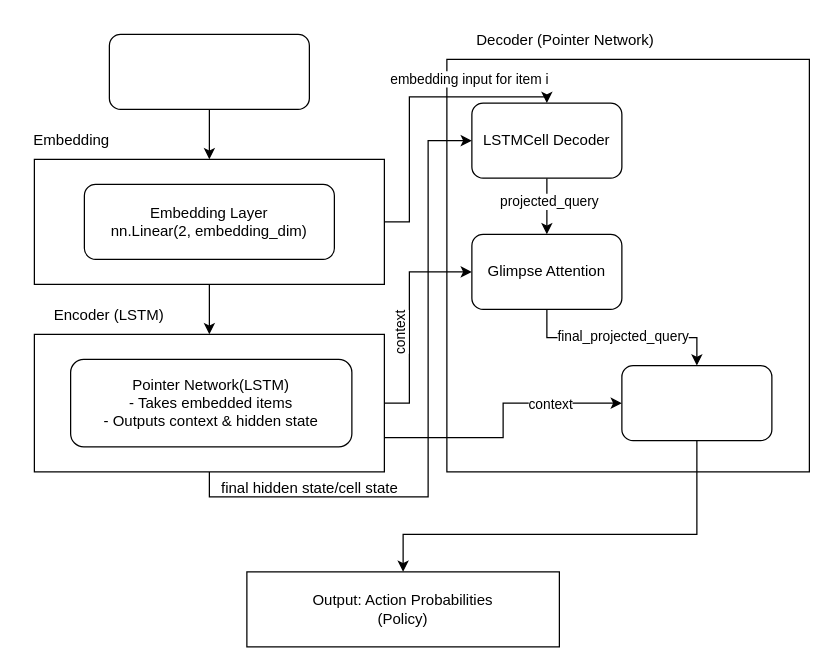
The diagram is 831 pixels wide and 669 high, and some of its shapes have lost their labels. Each missing label, with the centre of its shape:
"Input Items: weights, values (Batch, Seqlen, 2)" goes at point (208, 71).
"Pointer Attention" goes at point (696, 402).
